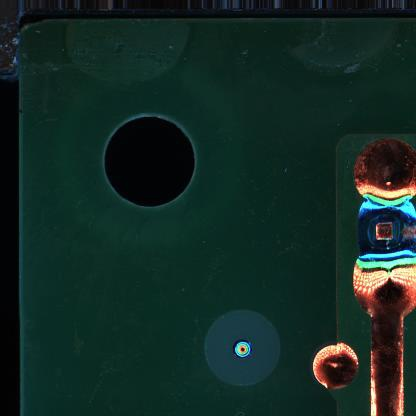spot: (359, 195, 416, 265), (231, 340, 253, 359)
